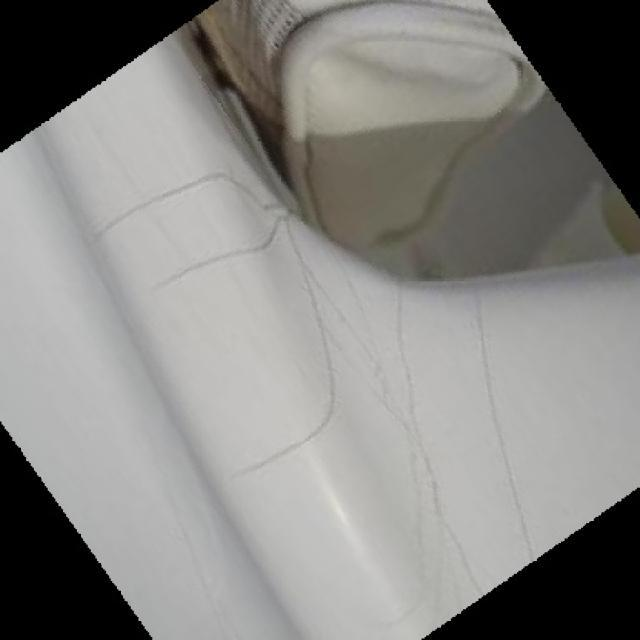crack: (90, 167, 275, 221), (135, 241, 295, 290), (233, 424, 386, 473)
